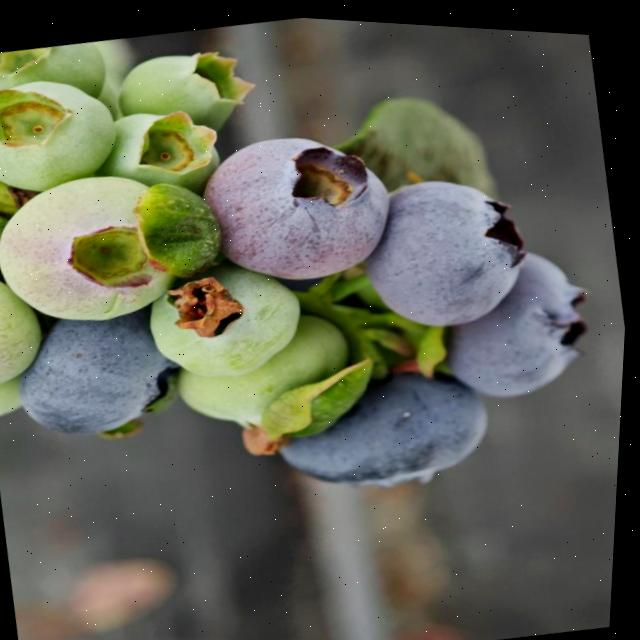RipeBlueBerry: (268, 341, 507, 502), (348, 151, 546, 337), (425, 226, 604, 403), (9, 293, 188, 446)
Semi-RipeBlueBerry: (187, 107, 409, 296)
UnripeBlueBerry: (0, 151, 201, 340), (141, 244, 316, 387), (0, 62, 129, 205), (108, 35, 254, 144)
